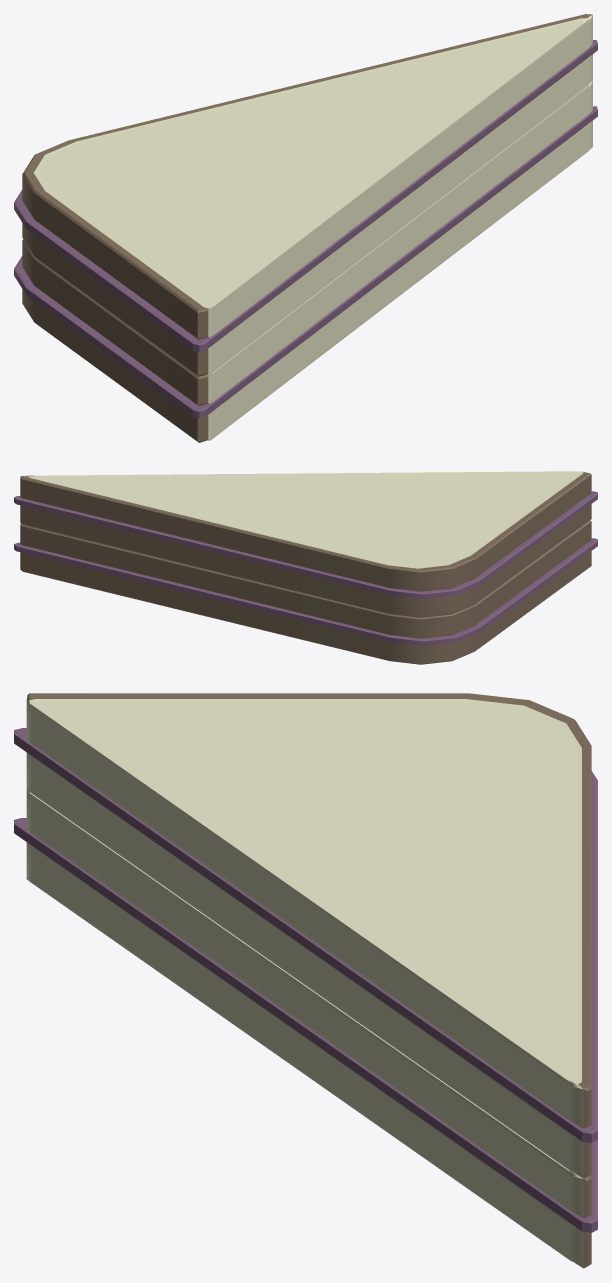
Rendered from Sandwich Full.fbx.
3 views of the same model, one above another, from view 1: azimuth 30°, elevation 25°; view 2: azimuth 150°, elevation 25°; view 3: azimuth 270°, elevation 25° (orthographic). The views are drawn at different scales.
Visible parts, largest first — view 1: pCube6, pCube4; view 2: pCube6, pCube4; view 3: pCube6, pCube4.
Part boxes in pixels (x1=…): pCube6: x1=14, y1=14, x2=597, y2=376; pCube4: x1=14, y1=81, x2=597, y2=442; pCube6: x1=14, y1=471, x2=597, y2=617; pCube4: x1=14, y1=520, x2=597, y2=664; pCube6: x1=14, y1=693, x2=597, y2=1178; pCube4: x1=14, y1=790, x2=597, y2=1268.
Size of the model in its own units: 15.5 by 3.2 by 9.43.
